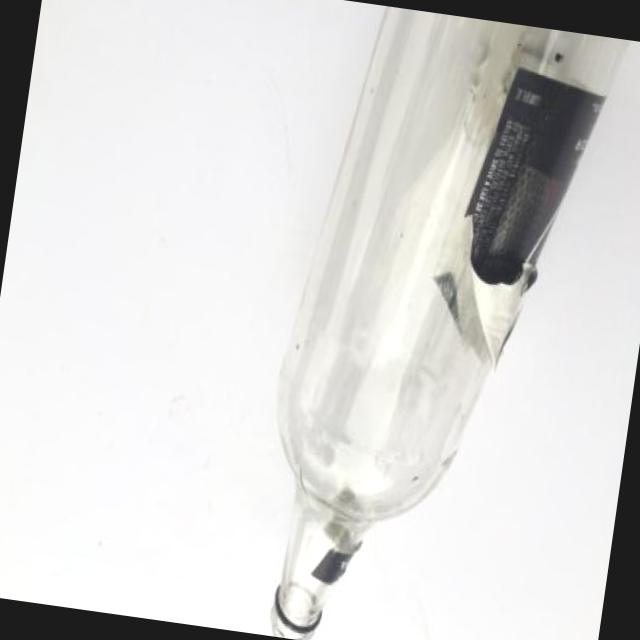chai_thuy_tinh: (272, 6, 628, 640)
